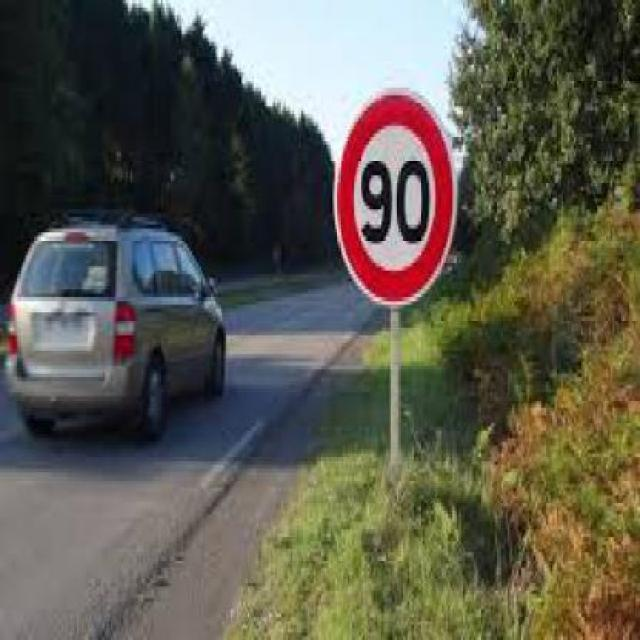speed limit 90: (330, 92, 458, 307)
